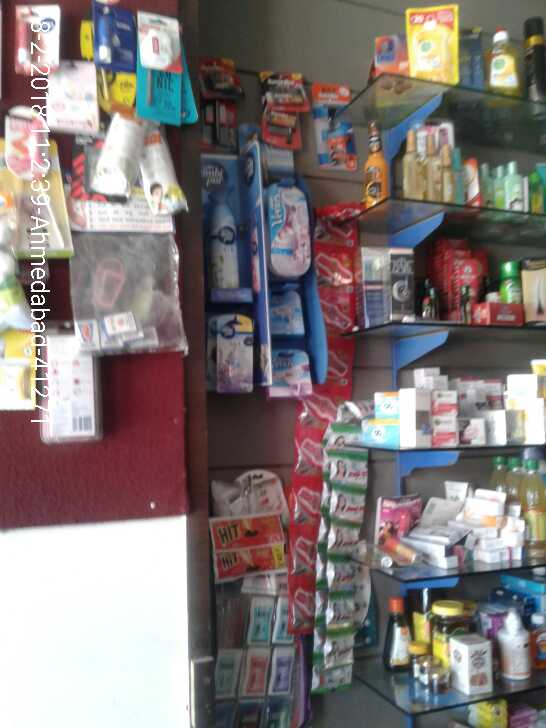beauty: (268, 185, 315, 278), (211, 319, 252, 396), (270, 347, 313, 396)
home: (211, 192, 246, 292)
